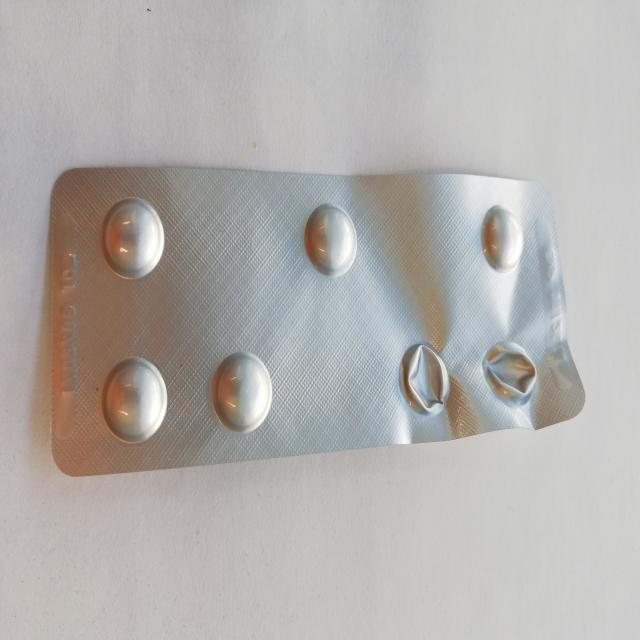Empty: (396, 340, 454, 420), (478, 336, 539, 408)
Pill: (99, 354, 172, 445), (208, 347, 279, 435), (100, 191, 168, 282), (301, 198, 359, 280), (478, 200, 526, 279)
